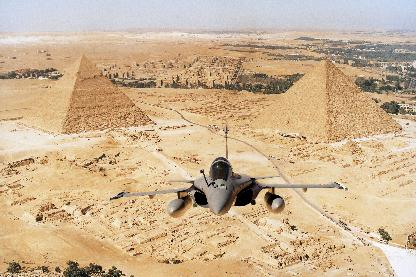RQ4: (109, 122, 348, 217)
